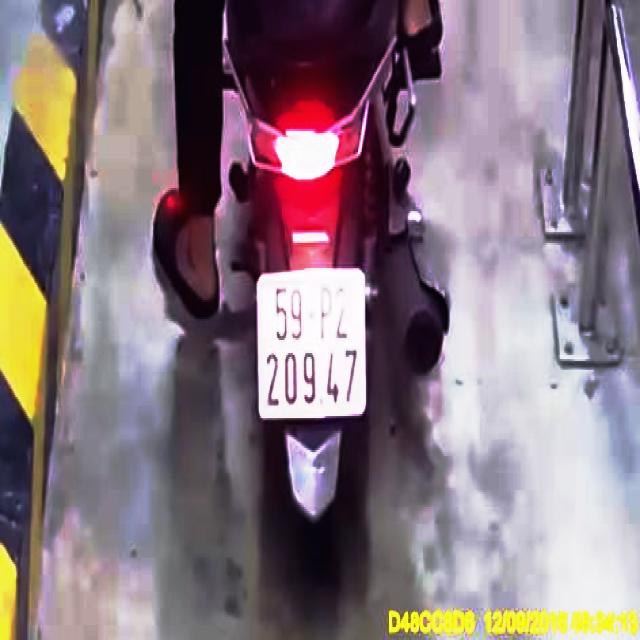license_plate: (258, 276, 367, 420)
